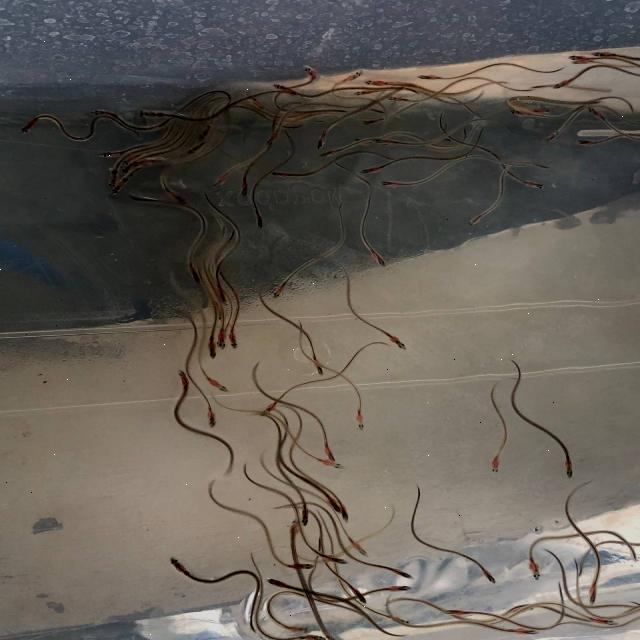glass_eel: (374, 321, 408, 351), (278, 550, 316, 574), (302, 344, 328, 379), (308, 452, 350, 472), (323, 492, 351, 522), (579, 606, 617, 628), (362, 240, 388, 272), (200, 371, 234, 395), (131, 106, 179, 122), (380, 560, 418, 580), (115, 154, 148, 177), (262, 573, 294, 596), (468, 561, 498, 585), (208, 323, 236, 348), (378, 607, 408, 630), (294, 499, 316, 530), (98, 142, 132, 162), (372, 176, 406, 196), (172, 364, 198, 390), (522, 558, 548, 584), (314, 436, 338, 464), (344, 536, 372, 560), (167, 552, 191, 580), (460, 209, 490, 231), (508, 620, 543, 638), (343, 408, 369, 432), (488, 447, 510, 475), (322, 546, 351, 567), (444, 604, 482, 620), (308, 127, 332, 151), (270, 276, 294, 300), (254, 396, 278, 420), (539, 125, 565, 147), (585, 106, 611, 128), (554, 452, 576, 478), (282, 516, 304, 542), (191, 120, 209, 151), (414, 68, 448, 84), (572, 134, 606, 150), (18, 116, 45, 136), (180, 140, 210, 158), (514, 174, 544, 192), (238, 172, 257, 200), (584, 576, 603, 604), (106, 176, 128, 200), (212, 284, 234, 308), (321, 490, 341, 516), (520, 102, 552, 118), (207, 169, 229, 191), (260, 126, 284, 146), (356, 162, 386, 178), (282, 630, 330, 640), (276, 622, 316, 634), (353, 132, 387, 146), (190, 260, 207, 288), (274, 82, 300, 100), (168, 183, 188, 206), (84, 106, 114, 121), (512, 106, 544, 120), (202, 337, 222, 359), (588, 46, 624, 58), (225, 327, 242, 352), (384, 94, 414, 108), (314, 148, 344, 162), (385, 580, 411, 596), (362, 78, 396, 90), (566, 51, 602, 62), (247, 209, 265, 231), (358, 112, 386, 126), (202, 406, 218, 430), (303, 63, 323, 81), (351, 87, 375, 101), (342, 70, 369, 82), (104, 172, 121, 190), (550, 78, 572, 91), (269, 170, 293, 180)
